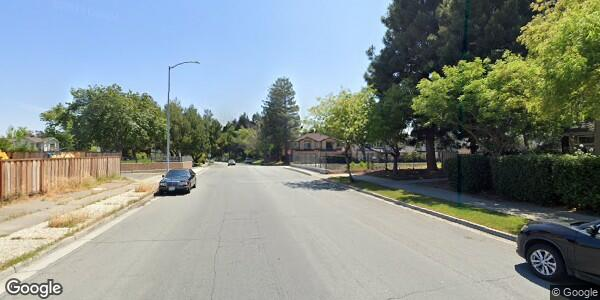Steel_Pole: (165, 58, 201, 172)
